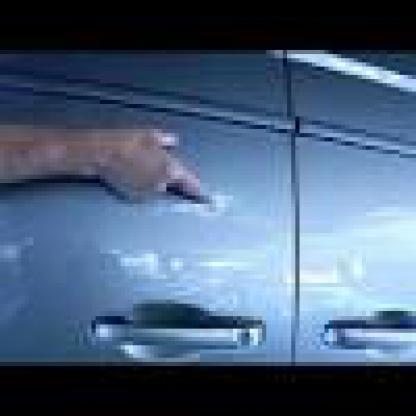dent: (0, 118, 200, 222)
